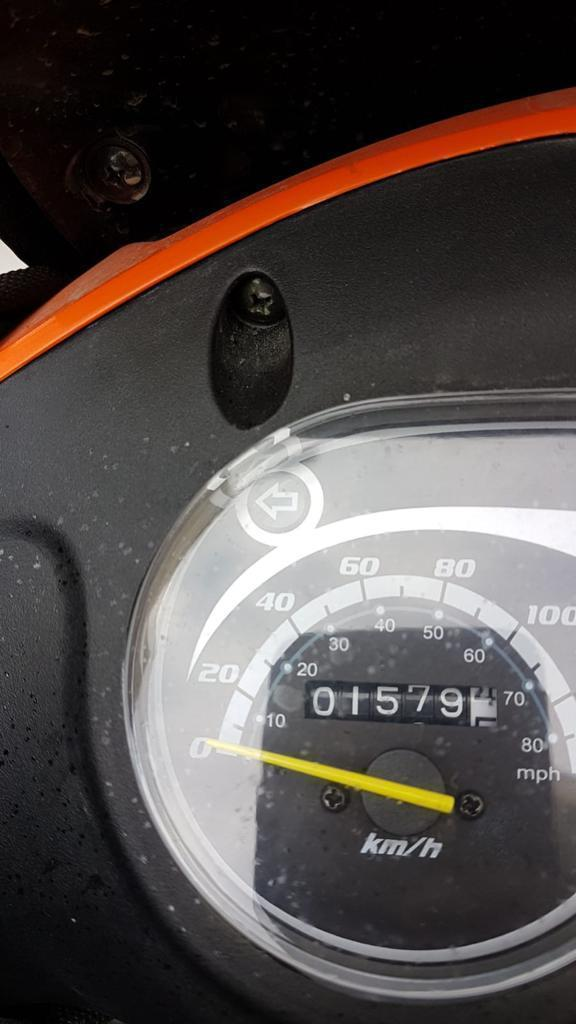0: (311, 685, 335, 717)
1: (348, 684, 363, 716)
4: (471, 686, 497, 706)
5: (374, 684, 400, 716), (471, 715, 498, 727)
7: (406, 683, 431, 713)
9: (439, 686, 464, 719)
odometer: (299, 674, 503, 731)
